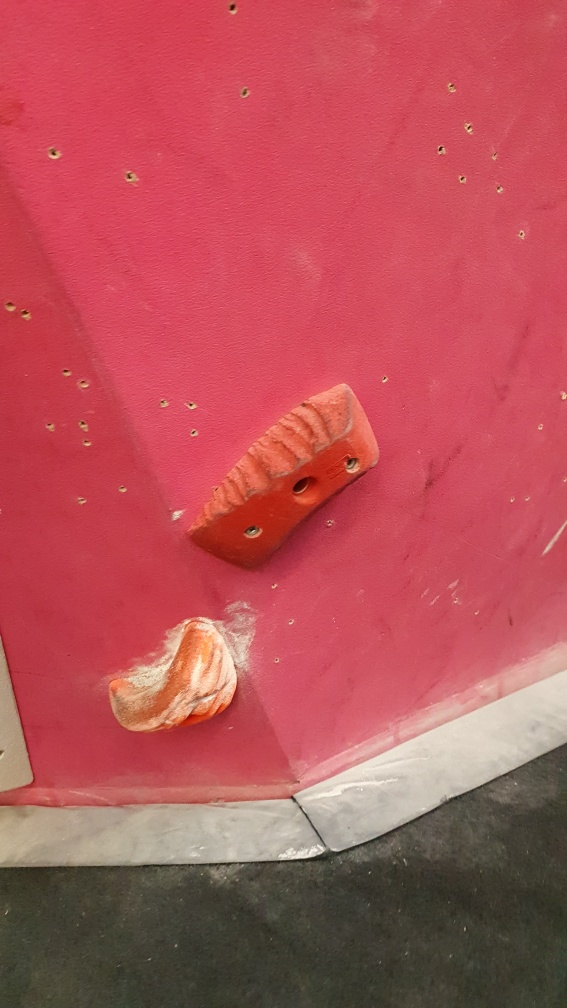Crimp: (186, 373, 383, 580)
Jug: (103, 612, 239, 738)
